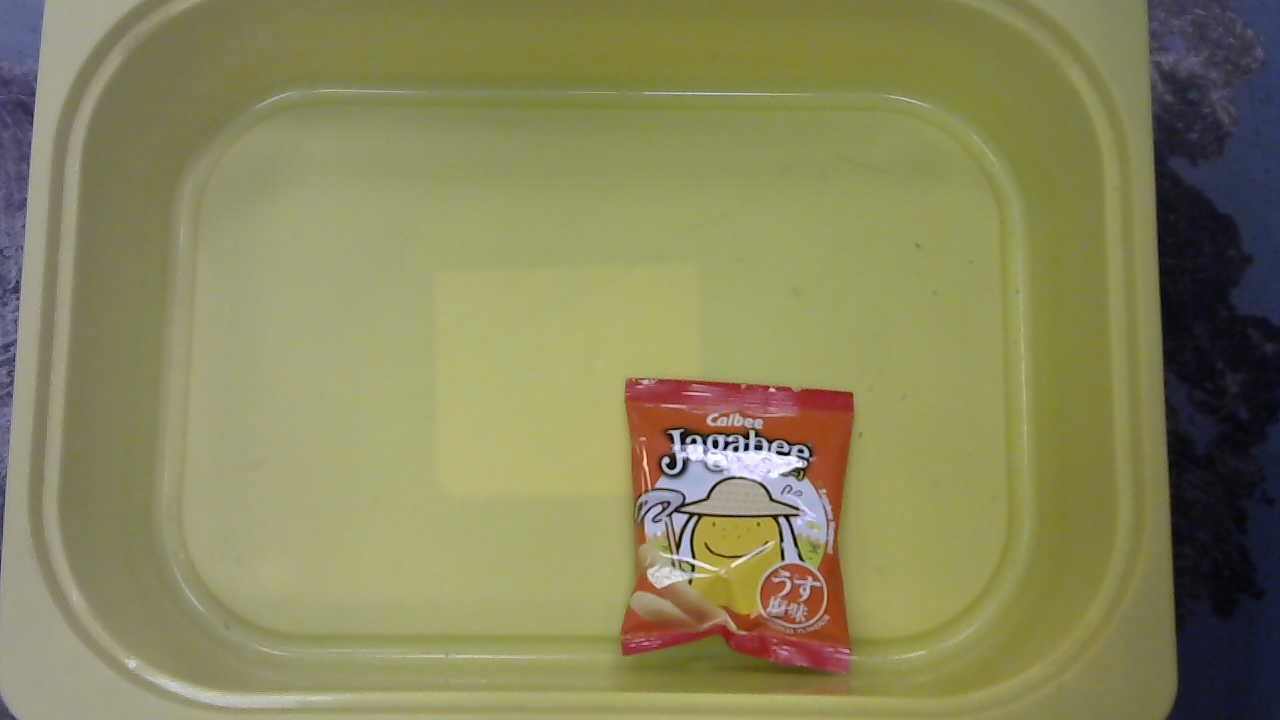JagabeeFarmer: (609, 368, 869, 680)
